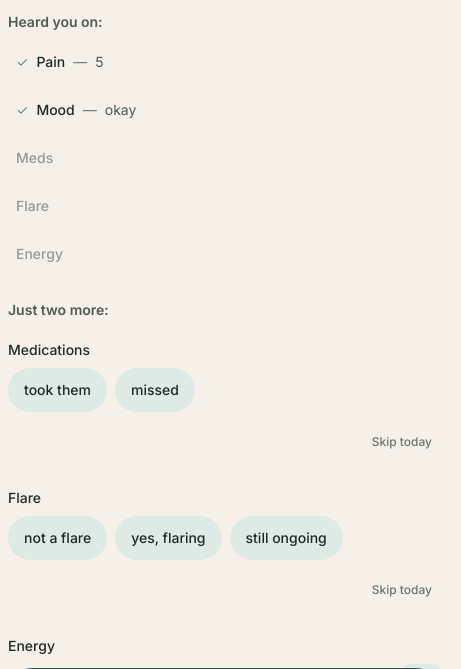
Scenario: <Stage2 /> › reveals an inline TapInput when a recap row is tapped (correction path, US-1.E.2)
Click the button with test id "heard-you-on-pain" at (22, 62), box [8, 40, 440, 84]
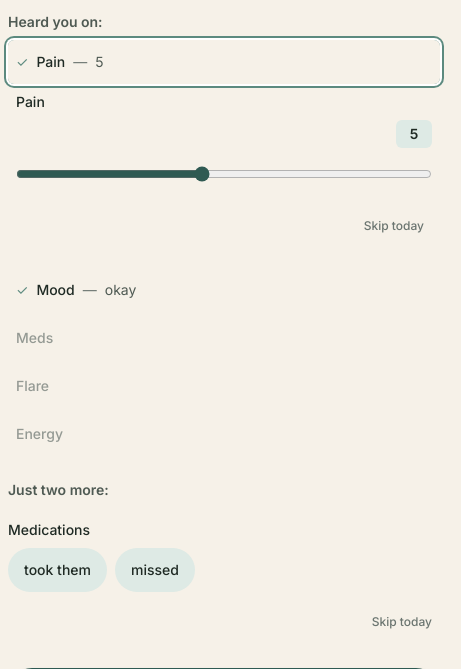
Expected: the element with test id "tap-input-pain" is shown, [16, 84, 432, 256]
